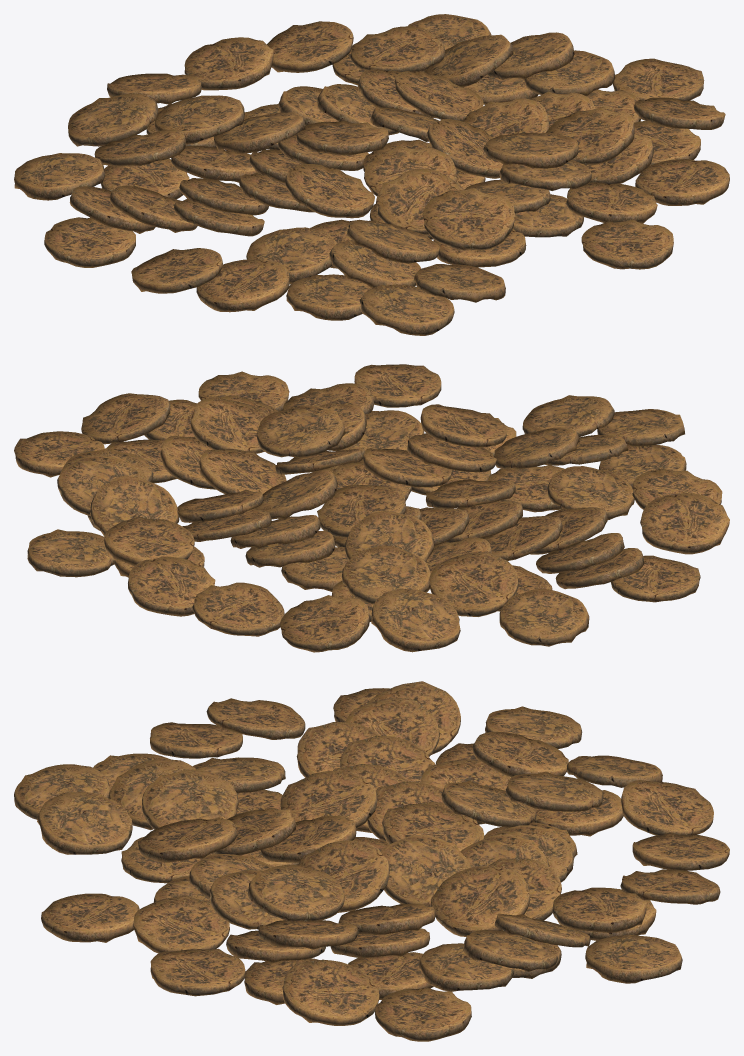
3 renders of one model, top to bottom at view 1: azimuth 30°, elevation 25°; view 2: azimuth 150°, elevation 25°; view 3: azimuth 270°, elevation 25°, orthographic. The views are drawn at different scales.
Visible parts, largest first — view 1: Coins; view 2: Coins; view 3: Coins.
Part boxes in pixels (x1,y1,x2,y2): Coins: (14, 14, 729, 335); Coins: (14, 364, 729, 652); Coins: (14, 681, 729, 1041).
Size of the model in its own units: 3.86 by 0.2508 by 3.4.
Materials: 1 (1 with a texture image).
